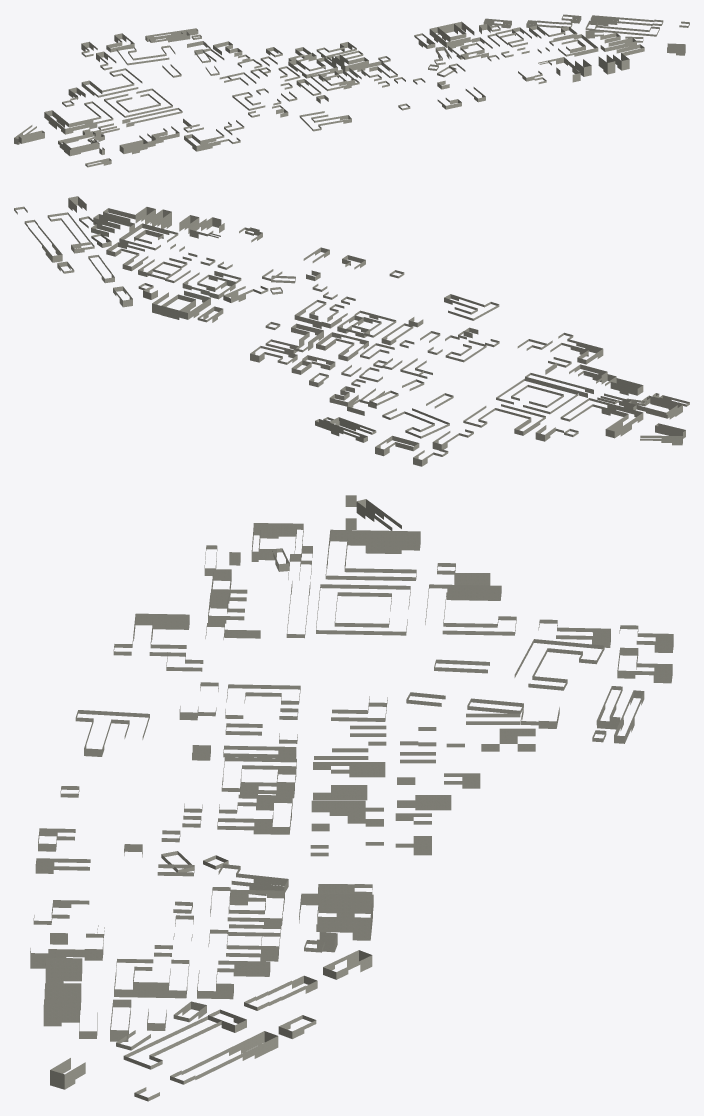
File: HouseWallOffsets.fbx
3 views of the same model, one above another, from view 1: azimuth 30°, elevation 25°; view 2: azimuth 150°, elevation 25°; view 3: azimuth 270°, elevation 25° (orthographic). The views are drawn at different scales.
Size of the model in its own units: 86566 by 2968 by 38805.
